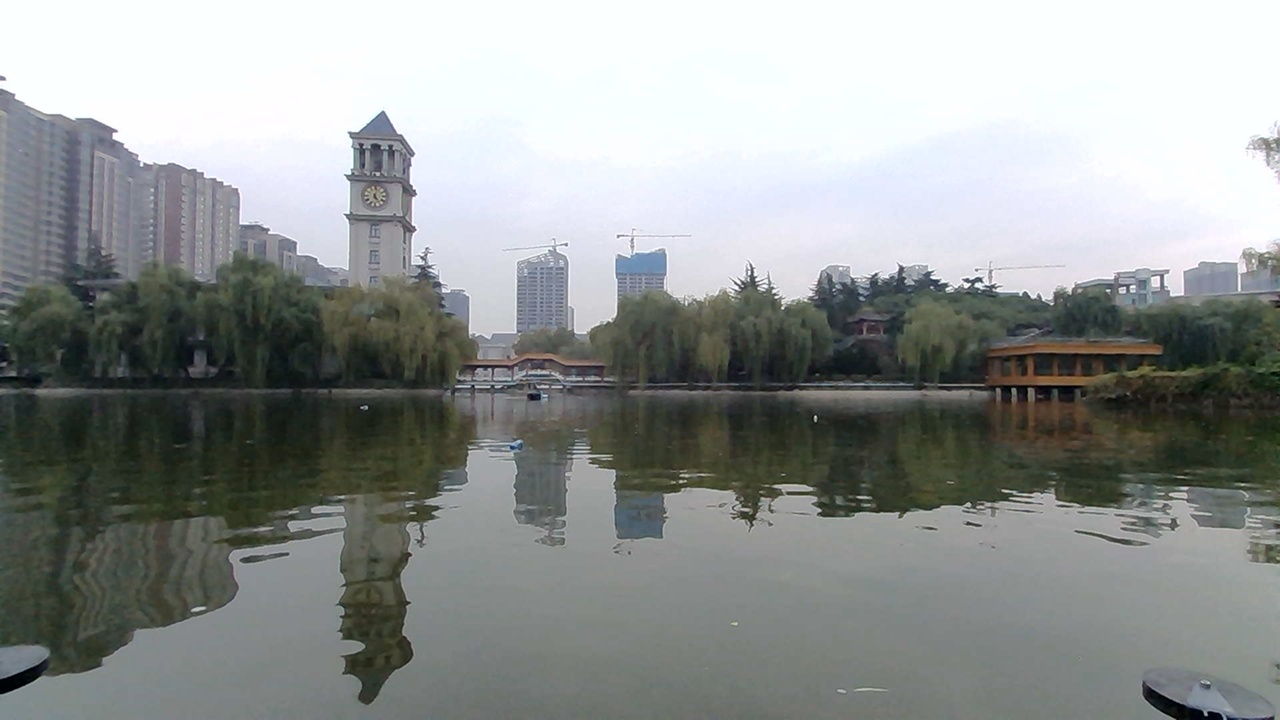bottle: (499, 428, 540, 457), (810, 408, 841, 429), (352, 397, 378, 416)
